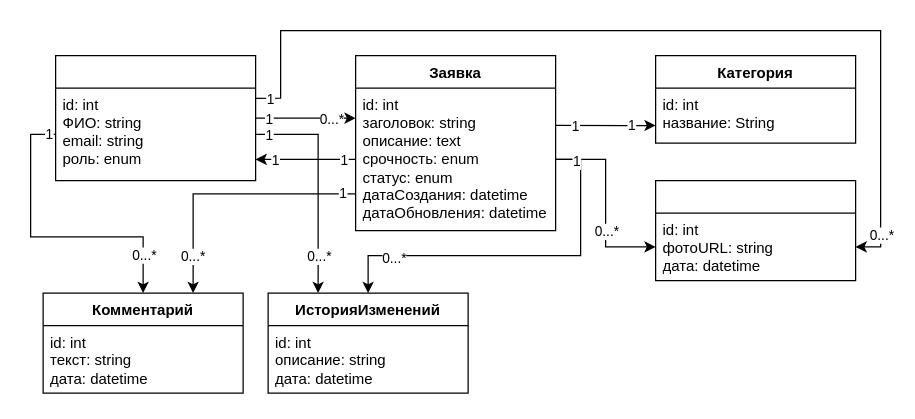
The diagram is 915 pixels wide and 419 high, and some of its shapes have lost their labels. The shapes that lost their labels are listed below. From the top down, each one's box as (x1, y1, x2, y2) in pixels, then its label:
(54, 54, 256, 181): Пользователь
(654, 179, 856, 281): Фотоотчет
